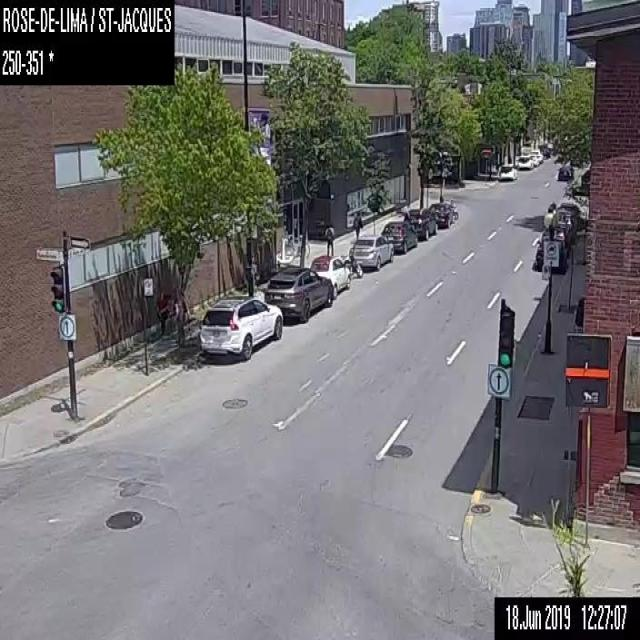pedestrian: (158, 295, 168, 333), (179, 288, 186, 341), (352, 209, 364, 239), (324, 222, 334, 254)
vehicle: (197, 294, 281, 362), (265, 265, 335, 322), (308, 253, 350, 294), (350, 235, 395, 269), (534, 226, 568, 268), (403, 208, 439, 240), (381, 221, 417, 252), (555, 207, 576, 242), (428, 201, 453, 226), (342, 248, 362, 277), (498, 162, 518, 181), (554, 166, 574, 182), (515, 155, 532, 170), (530, 149, 541, 163), (526, 154, 538, 166), (450, 201, 458, 218)
